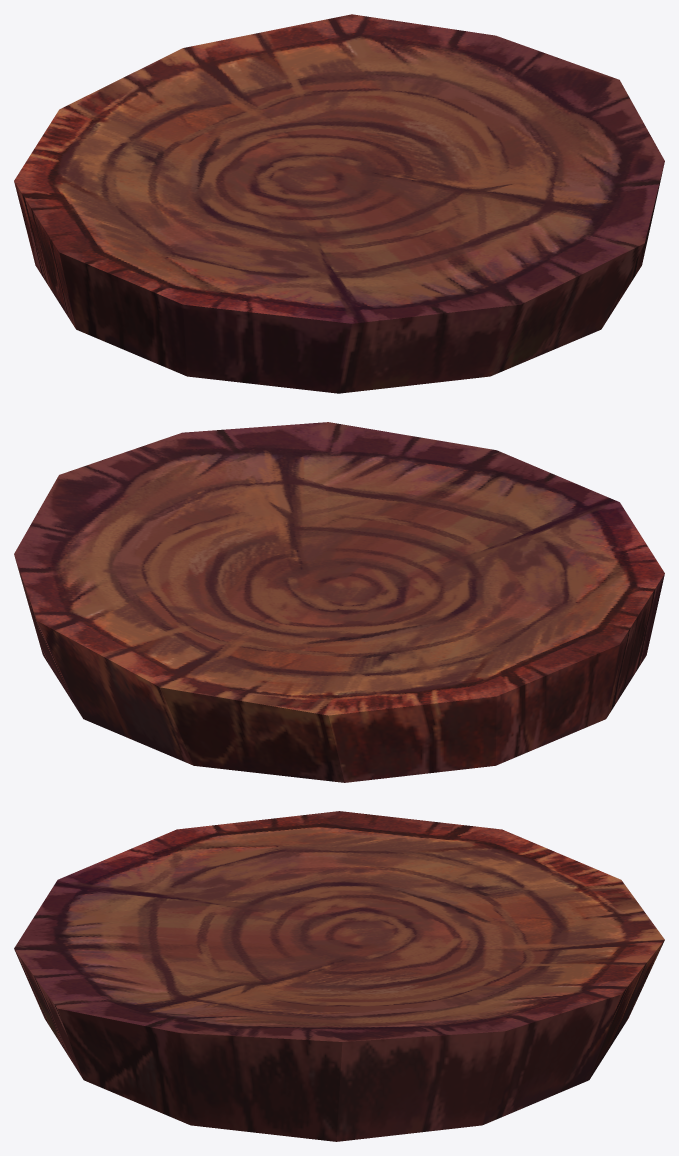
The model's file is 02_wooden_plate_01.obj.
The picture shows the model from 3 angles, top to bottom: view 1: azimuth 30°, elevation 25°; view 2: azimuth 150°, elevation 25°; view 3: azimuth 270°, elevation 25°; orthographic projection. The views are drawn at different scales.
Parts seen in each view (by area): view 1: 02_wooden_plate_01; view 2: 02_wooden_plate_01; view 3: 02_wooden_plate_01.
Boxes of the visible parts, x1,y1,x2,y2 form: 02_wooden_plate_01: [14, 14, 664, 393]; 02_wooden_plate_01: [14, 422, 664, 782]; 02_wooden_plate_01: [14, 811, 664, 1141].
Size of the model in its own units: 1.92 by 0.3726 by 2.
1 material, 1 textured.
